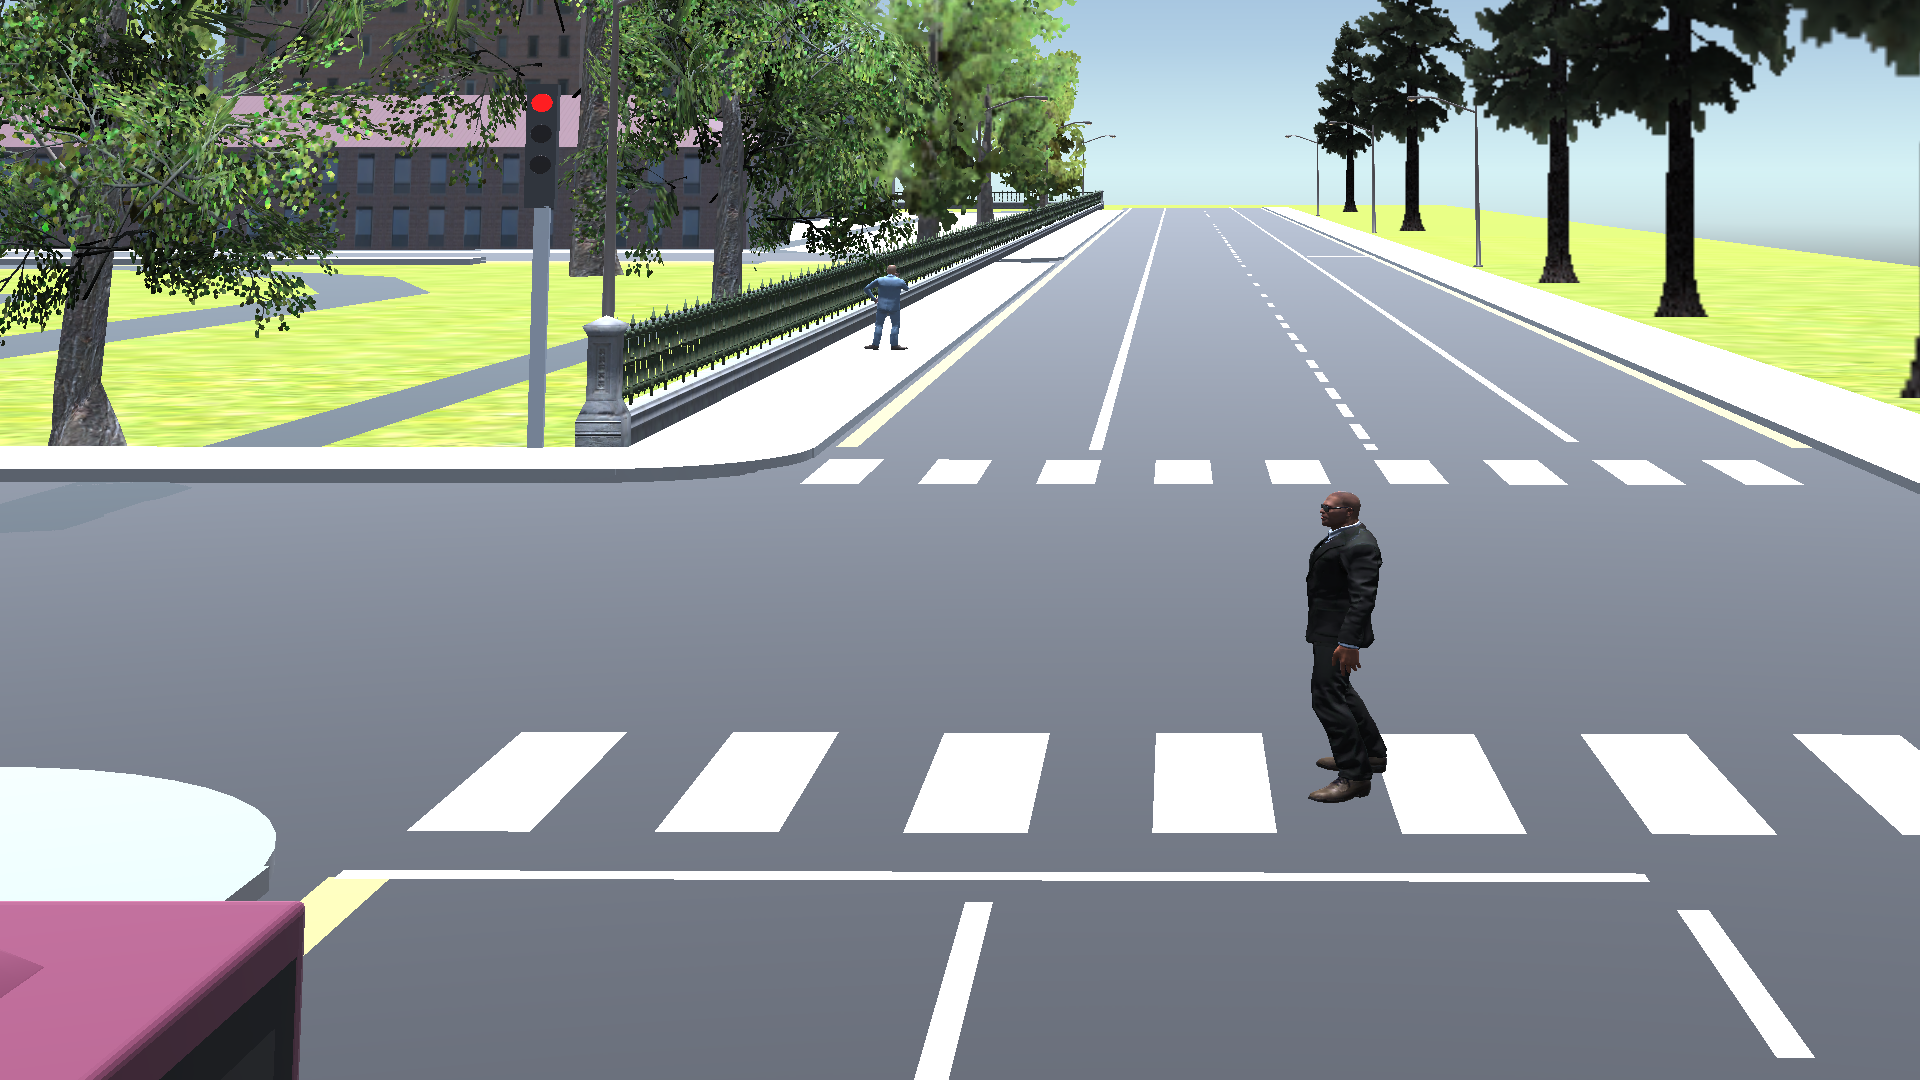pedestrian: (1297, 487, 1396, 810), (859, 255, 914, 359)
